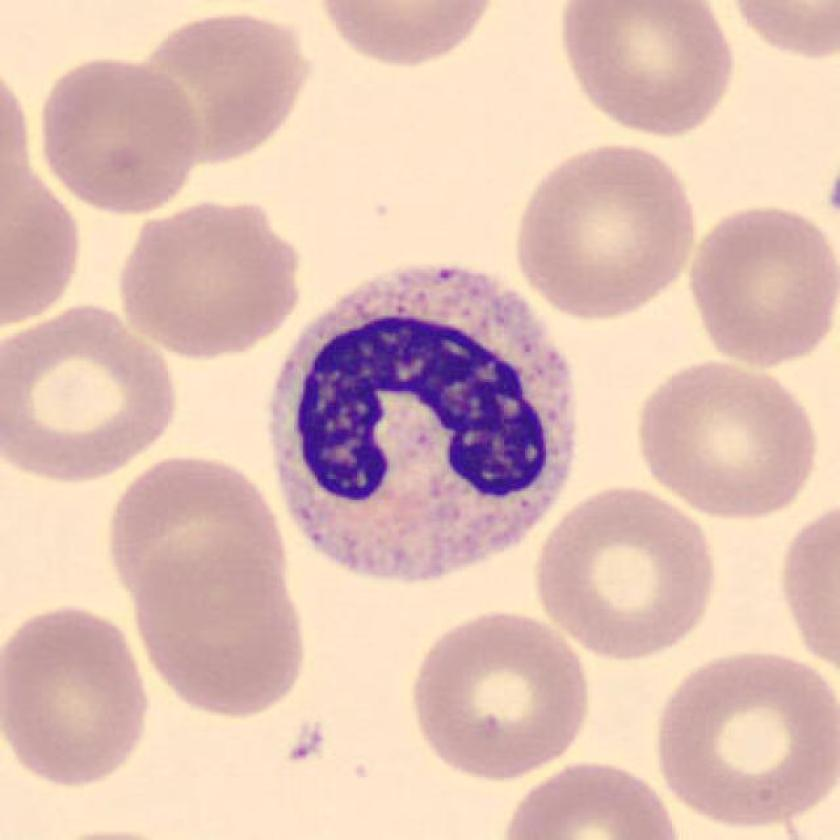neutrophil: (264, 270, 579, 580)
